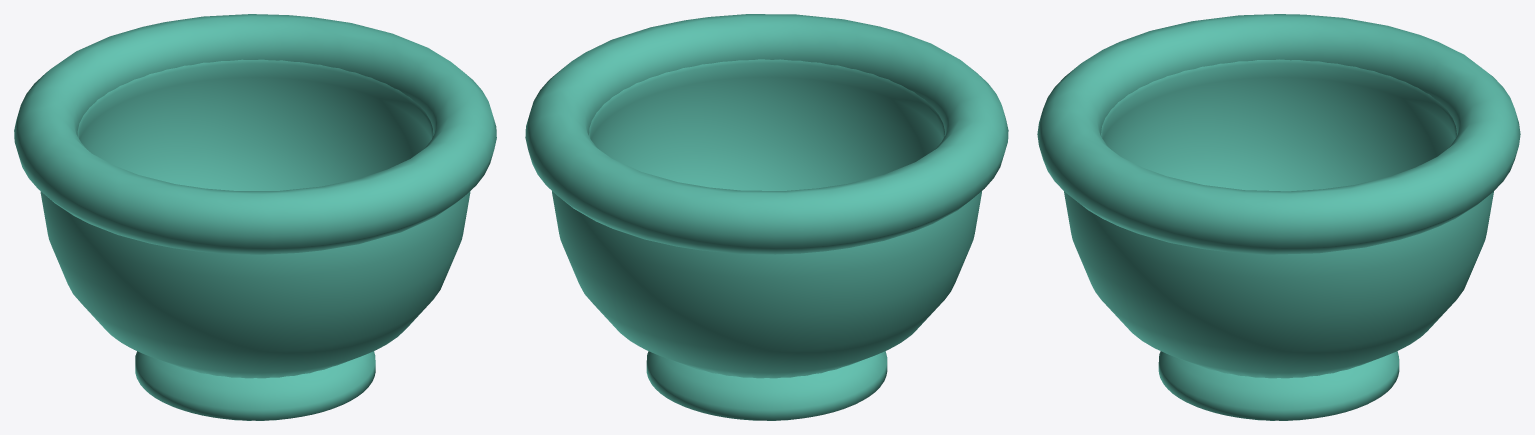
The model's file is fruit_a.glb.
The picture shows the model from 3 angles, left to right: view 1: azimuth 30°, elevation 25°; view 2: azimuth 150°, elevation 25°; view 3: azimuth 270°, elevation 25°; orthographic projection.
Visible parts, largest first — view 1: body; view 2: body; view 3: body.
Part boxes in pixels (bbox=[...]): body: bbox=[14, 14, 496, 420]; body: bbox=[525, 14, 1008, 420]; body: bbox=[1037, 14, 1520, 420].
Size of the model in its own units: 0.304 by 0.19 by 0.304.
